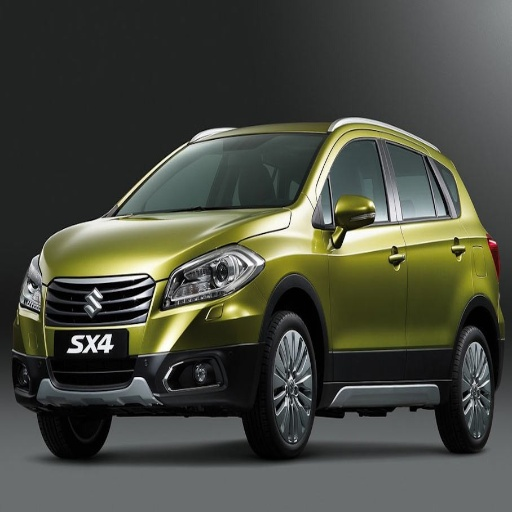back_left_door: (382, 135, 472, 376)
front_bumper: (11, 274, 268, 405)
front_glass: (112, 133, 327, 216)
front_left_door: (313, 131, 407, 380)
